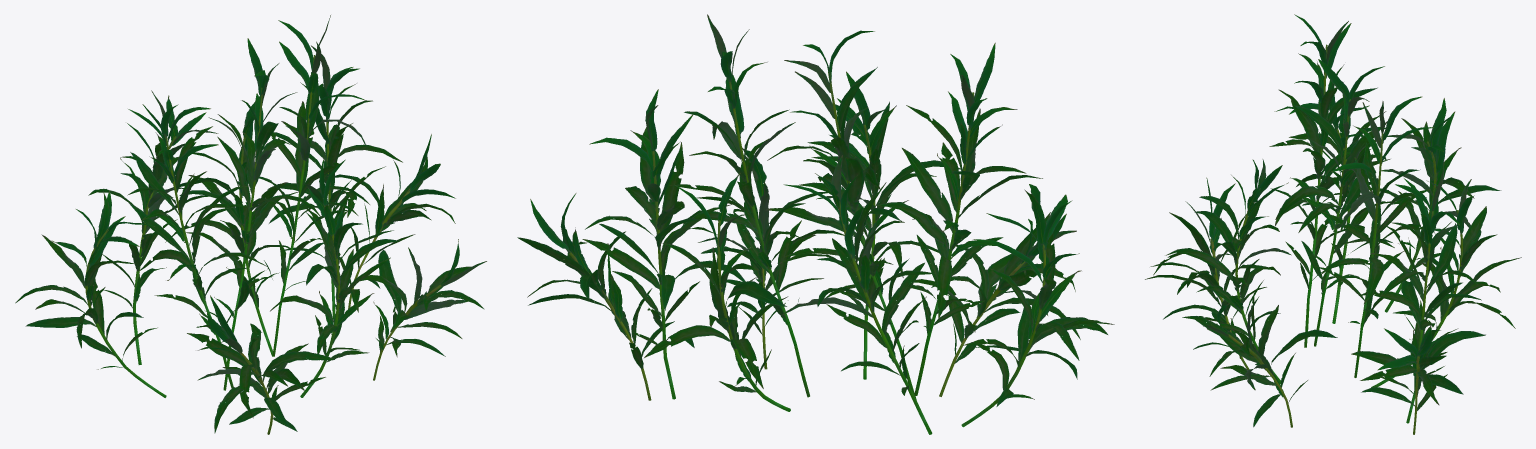
The picture shows the model from 3 angles, left to right: view 1: azimuth 30°, elevation 25°; view 2: azimuth 150°, elevation 25°; view 3: azimuth 270°, elevation 25°; orthographic projection. The views are drawn at different scales.
Parts seen in each view (by area): view 1: SM_US_Red_Bush_01_LOD0; view 2: SM_US_Red_Bush_01_LOD0; view 3: SM_US_Red_Bush_01_LOD0.
Part boxes in pixels (x1,y1,x2,y2): SM_US_Red_Bush_01_LOD0: [15, 15, 486, 434]; SM_US_Red_Bush_01_LOD0: [517, 14, 1114, 434]; SM_US_Red_Bush_01_LOD0: [1145, 14, 1521, 434].
Bounding box in the file's own units: 1.07 × 0.779 × 0.7928.
1 material, 1 textured.
